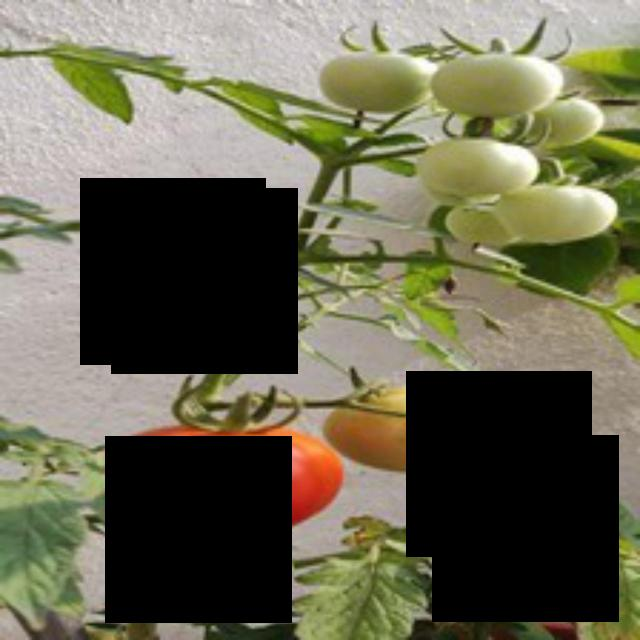tomato: (104, 422, 333, 545)
